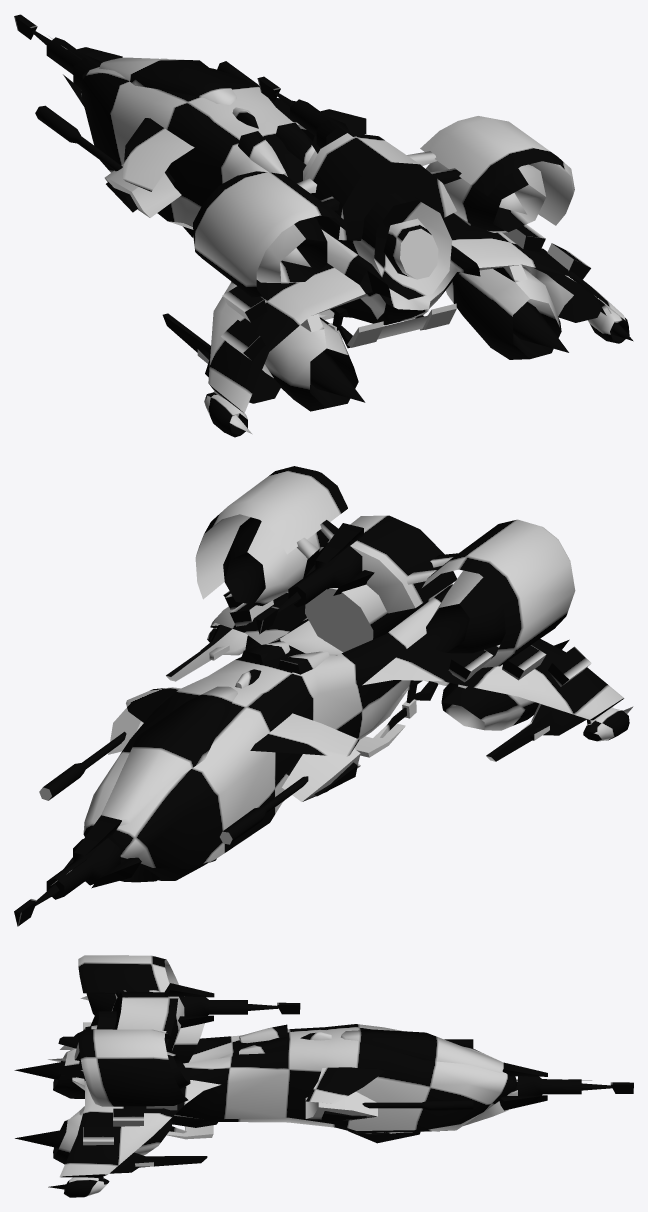
The model's file is nostromo_razer.obj.
3 views of the same model, one above another, from view 1: azimuth 30°, elevation 25°; view 2: azimuth 150°, elevation 25°; view 3: azimuth 270°, elevation 25° (orthographic). The views are drawn at different scales.
Visible parts, largest first — view 1: main; view 2: main; view 3: main.
Boxes of the visible parts, x1,y1,x2,y2 form: main: (14, 14, 633, 437); main: (14, 466, 633, 926); main: (14, 955, 633, 1197).
Bounding box in the file's own units: 66.19 × 34.82 × 127.
Materials: 1 (1 with a texture image).
